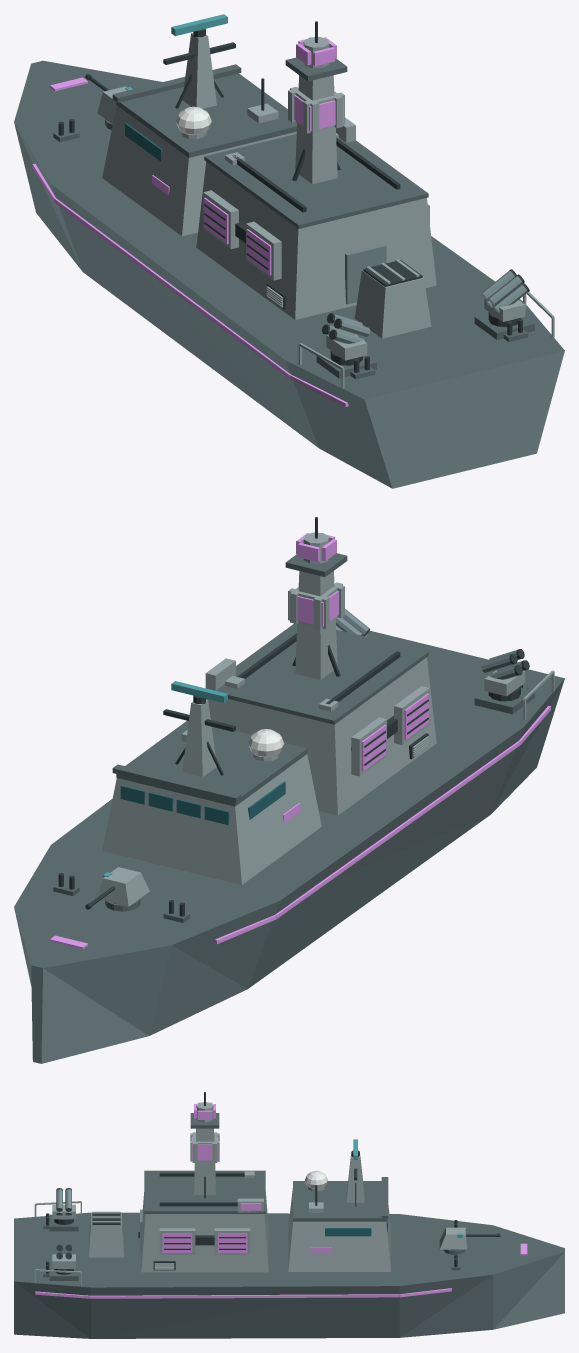
Rendered from ESC_EW_T3.fbx.
3 renders of one model, top to bottom at view 1: azimuth 30°, elevation 25°; view 2: azimuth 150°, elevation 25°; view 3: azimuth 270°, elevation 25°, orthographic. The views are drawn at different scales.
Visible parts, largest first — view 1: ContinuousHull.011, ElectronicWarfareEquipmentRoom.003, ElectronicsRoomRoof, Deckhouse.011, Roof.011, FunnelEnclosure.011, ESMMast.003, NavMast.007, RoleHullStripe-1_1, EWServiceHatch, BridgeBrow, JammerBackplate_P0 (+10 smaller); view 2: ContinuousHull.011, Deckhouse.011, ElectronicWarfareEquipmentRoom.003, ElectronicsRoomRoof, Roof.011, ESMMast.003, NavMast.007, RoleHullStripe-1_1, PrimaryGunCupola.011, BridgeBrow, JammerBackplate_P1, JammerBackplate_P0 (+5 smaller); view 3: ContinuousHull.011, ElectronicWarfareEquipmentRoom.003, Deckhouse.011, ElectronicsRoomRoof, Roof.011, FunnelEnclosure.011, RoleHullStripe1_1, ESMMast.003, NavMast.007, PrimaryGunCupola.011, JammerFace_S0, JammerFace_S1 (+8 smaller).
Boxes of the visible parts, left/top/right/bottom form: ContinuousHull.011: left=14, top=60, right=564, bottom=488; ElectronicWarfareEquipmentRoom.003: left=196, top=161, right=436, bottom=319; ElectronicsRoomRoof: left=204, top=134, right=428, bottom=228; Deckhouse.011: left=102, top=105, right=296, bottom=236; Roof.011: left=116, top=73, right=297, bottom=157; FunnelEnclosure.011: left=354, top=270, right=431, bottom=338; ESMMast.003: left=295, top=75, right=337, bottom=184; NavMast.007: left=182, top=33, right=216, bottom=108; RoleHullStripe-1_1: left=54, top=198, right=290, bottom=378; EWServiceHatch: left=345, top=244, right=386, bottom=304; BridgeBrow: left=112, top=64, right=241, bottom=102; JammerBackplate_P0: left=246, top=221, right=281, bottom=280; ContinuousHull.011: left=14, top=630, right=564, bottom=1063; Deckhouse.011: left=102, top=754, right=321, bottom=884; ElectronicWarfareEquipmentRoom.003: left=206, top=657, right=436, bottom=815; ElectronicsRoomRoof: left=216, top=623, right=428, bottom=724; Roof.011: left=116, top=720, right=307, bottom=806; ESMMast.003: left=295, top=571, right=337, bottom=679; NavMast.007: left=182, top=699, right=216, bottom=776; RoleHullStripe-1_1: left=275, top=741, right=520, bottom=919; PrimaryGunCupola.011: left=98, top=867, right=149, bottom=906; BridgeBrow: left=112, top=764, right=241, bottom=802; JammerBackplate_P1: left=351, top=717, right=386, bottom=776; JammerBackplate_P0: left=394, top=686, right=429, bottom=744; ContinuousHull.011: left=14, top=1212, right=564, bottom=1338; ElectronicWarfareEquipmentRoom.003: left=141, top=1192, right=268, bottom=1272; Deckhouse.011: left=288, top=1188, right=390, bottom=1271; ElectronicsRoomRoof: left=144, top=1170, right=265, bottom=1213; Roof.011: left=293, top=1181, right=386, bottom=1221; FunnelEnclosure.011: left=88, top=1213, right=124, bottom=1257; RoleHullStripe1_1: left=91, top=1294, right=399, bottom=1298; ESMMast.003: left=194, top=1128, right=215, bottom=1194; NavMast.007: left=346, top=1154, right=364, bottom=1202; PrimaryGunCupola.011: left=439, top=1227, right=466, bottom=1249; JammerFace_S0: left=162, top=1233, right=192, bottom=1252; JammerFace_S1: left=217, top=1233, right=247, bottom=1252.
Size of the model in its own units: 290 by 396 by 900.
